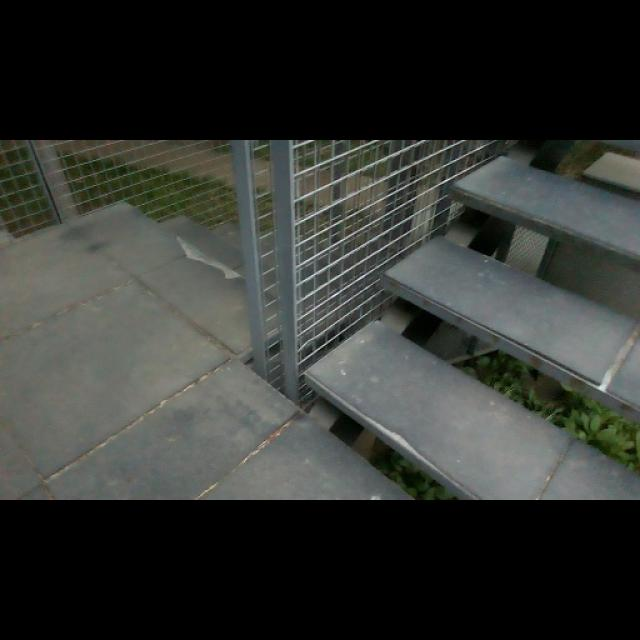stair: (313, 205, 640, 494), (124, 192, 258, 331)
